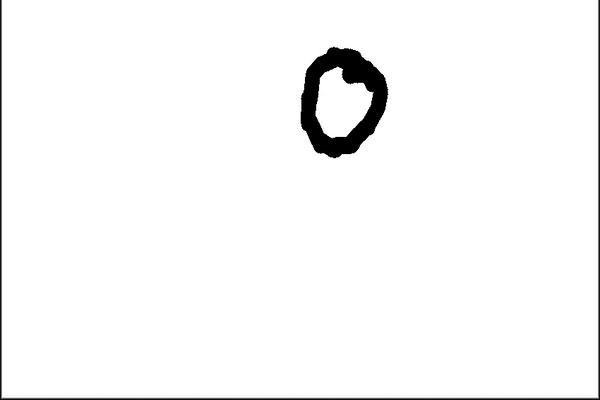O: (290, 41, 394, 167)
